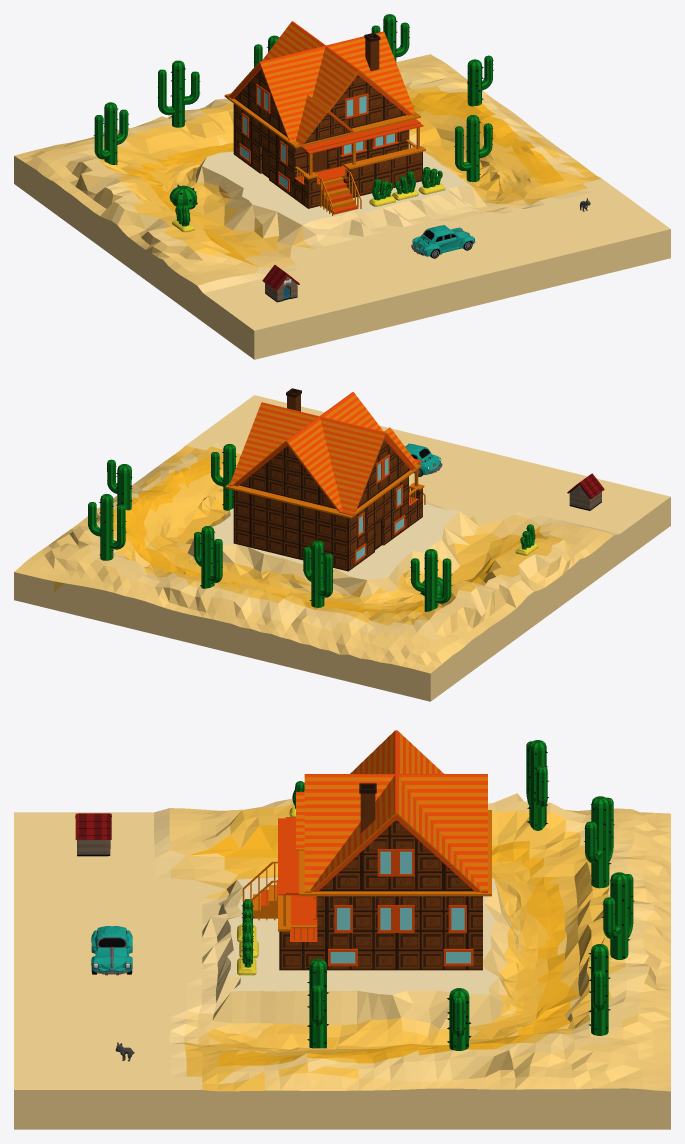
3 views of the same model, one above another, from view 1: azimuth 30°, elevation 25°; view 2: azimuth 150°, elevation 25°; view 3: azimuth 270°, elevation 25° (orthographic). The views are drawn at different scales.
Parts seen in each view (by area): view 1: Cube.001, Cube, Cylinder.037, Cylinder.044, Cylinder.045, VEHICLES_VOLKSWAGEN, Cylinder.038, OBJRANDOM_DOGHOUSE, Cylinder.042, Cylinder.039, Cylinder.041, Sphere.023 (+1 smaller); view 2: Cube.001, Cube, Cylinder.042, Cylinder.045, Cylinder.044, Cylinder.043, Cylinder.037, Cylinder.038, OBJRANDOM_DOGHOUSE, VEHICLES_VOLKSWAGEN; view 3: Cube.001, Cube, Cylinder.043, Cylinder.044, VEHICLES_VOLKSWAGEN, Cylinder.045, Cylinder.042, Cylinder.037, OBJRANDOM_DOGHOUSE, Cylinder.038, Cylinder.041.
Part boxes in pixels (left/top/right/bottom): Cube.001: left=14, top=54, right=670, bottom=359; Cube: left=224, top=21, right=425, bottom=215; Cylinder.037: left=454, top=115, right=493, bottom=182; Cylinder.044: left=157, top=60, right=200, bottom=127; Cylinder.045: left=93, top=102, right=129, bottom=164; VEHICLES_VOLKSWAGEN: left=411, top=225, right=475, bottom=258; Cylinder.038: left=467, top=55, right=493, bottom=106; OBJRANDOM_DOGHOUSE: left=262, top=265, right=299, bottom=302; Cylinder.042: left=371, top=14, right=409, bottom=62; Cylinder.039: left=369, top=179, right=395, bottom=206; Cylinder.041: left=418, top=167, right=445, bottom=194; Sphere.023: left=169, top=184, right=197, bottom=209; Cube.001: left=14, top=395, right=670, bottom=701; Cube: left=225, top=388, right=425, bottom=571; Cylinder.042: left=88, top=494, right=126, bottom=560; Cylinder.045: left=410, top=549, right=452, bottom=611; Cylinder.044: left=303, top=540, right=333, bottom=607; Cylinder.043: left=193, top=526, right=222, bottom=588; Cylinder.037: left=211, top=444, right=240, bottom=510; Cylinder.038: left=107, top=459, right=131, bottom=510; OBJRANDOM_DOGHOUSE: left=567, top=473, right=604, bottom=510; VEHICLES_VOLKSWAGEN: left=405, top=443, right=442, bottom=476; Cube.001: left=14, top=793, right=670, bottom=1129; Cube: left=242, top=730, right=491, bottom=970; Cylinder.043: left=602, top=872, right=634, bottom=959; Cylinder.044: left=584, top=796, right=614, bottom=888; VEHICLES_VOLKSWAGEN: left=91, top=926, right=132, bottom=975; Cylinder.045: left=526, top=740, right=548, bottom=830; Cylinder.042: left=588, top=944, right=610, bottom=1035; Cylinder.037: left=307, top=958, right=328, bottom=1048; OBJRANDOM_DOGHOUSE: left=75, top=813, right=111, bottom=856; Cylinder.038: left=447, top=988, right=471, bottom=1050; Cylinder.041: left=237, top=932, right=256, bottom=975.
Size of the model in its own units: 4002 by 1779 by 4001.
34 materials, 3 textured.
